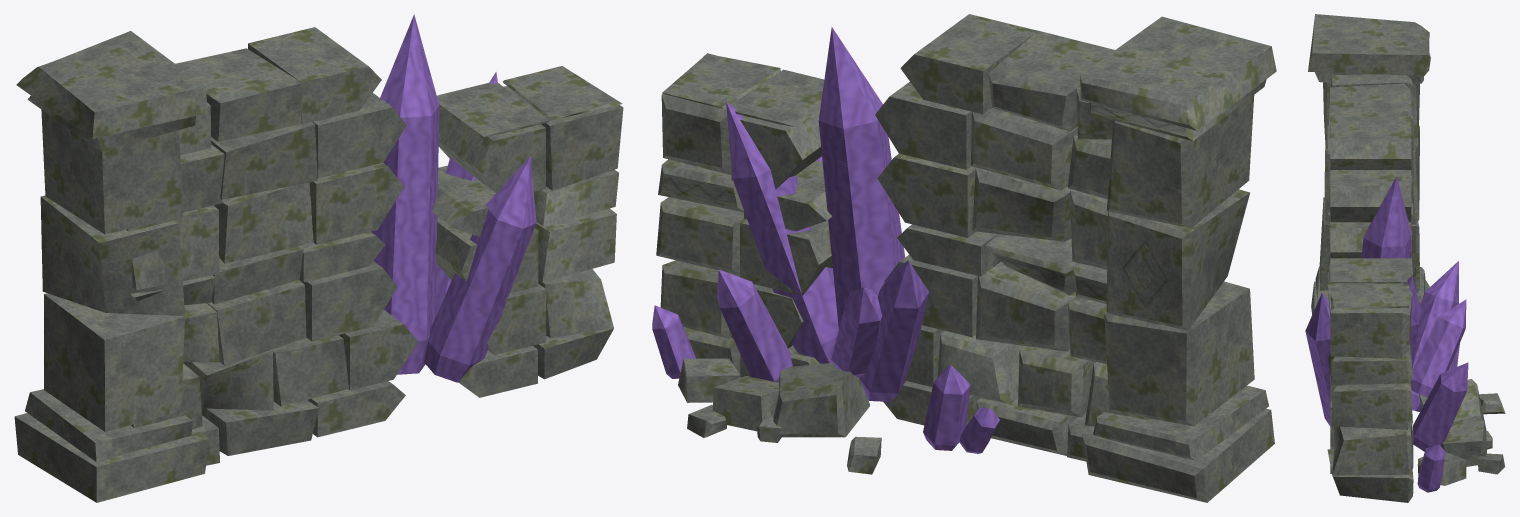
The model's file is D_Crystal_Fractured_Wall.obj.
The picture shows the model from 3 angles, left to right: view 1: azimuth 30°, elevation 25°; view 2: azimuth 150°, elevation 25°; view 3: azimuth 270°, elevation 25°; orthographic projection. The views are drawn at different scales.
Parts seen in each view (by area): view 1: D_Crystal_Fractured_Wall_Stone_Slate, D_Crystal_Fractured_Wall_Stone_Shadow, D_Crystal_Fractured_Wall_Stone_Warm, D_Crystal_Fractured_Wall_Crystal_Amethyst, D_Crystal_Fractured_Wall_Stone_Pale, D_Crystal_Fractured_Wall_Crystal_Deep, D_Crystal_Fractured_Wall_Crystal_Light; view 2: D_Crystal_Fractured_Wall_Stone_Slate, D_Crystal_Fractured_Wall_Stone_Warm, D_Crystal_Fractured_Wall_Stone_Shadow, D_Crystal_Fractured_Wall_Crystal_Amethyst, D_Crystal_Fractured_Wall_Crystal_Deep, D_Crystal_Fractured_Wall_Stone_Pale, D_Crystal_Fractured_Wall_Crystal_Light, D_Crystal_Fractured_Wall_Carved_Diamond, D_Crystal_Fractured_Wall_Carved_Band; view 3: D_Crystal_Fractured_Wall_Stone_Slate, D_Crystal_Fractured_Wall_Stone_Warm, D_Crystal_Fractured_Wall_Stone_Shadow, D_Crystal_Fractured_Wall_Crystal_Light, D_Crystal_Fractured_Wall_Crystal_Amethyst, D_Crystal_Fractured_Wall_Stone_Pale, D_Crystal_Fractured_Wall_Crystal_Deep, D_Crystal_Fractured_Wall_Carved_Diamond.
Part boxes in pixels (left/top/right/bottom): D_Crystal_Fractured_Wall_Stone_Slate: left=25, top=27, right=616, bottom=461; D_Crystal_Fractured_Wall_Stone_Shadow: left=27, top=83, right=549, bottom=431; D_Crystal_Fractured_Wall_Stone_Warm: left=16, top=31, right=623, bottom=341; D_Crystal_Fractured_Wall_Crystal_Amethyst: left=391, top=14, right=536, bottom=382; D_Crystal_Fractured_Wall_Stone_Pale: left=14, top=66, right=622, bottom=502; D_Crystal_Fractured_Wall_Crystal_Deep: left=371, top=72, right=522, bottom=382; D_Crystal_Fractured_Wall_Crystal_Light: left=380, top=15, right=530, bottom=372; D_Crystal_Fractured_Wall_Stone_Slate: left=656, top=14, right=1268, bottom=474; D_Crystal_Fractured_Wall_Stone_Warm: left=658, top=16, right=1276, bottom=431; D_Crystal_Fractured_Wall_Stone_Shadow: left=731, top=69, right=1266, bottom=426; D_Crystal_Fractured_Wall_Crystal_Amethyst: left=652, top=27, right=994, bottom=453; D_Crystal_Fractured_Wall_Crystal_Deep: left=652, top=27, right=981, bottom=451; D_Crystal_Fractured_Wall_Stone_Pale: left=662, top=53, right=1274, bottom=502; D_Crystal_Fractured_Wall_Crystal_Light: left=652, top=27, right=999, bottom=450; D_Crystal_Fractured_Wall_Carved_Diamond: left=1108, top=216, right=1182, bottom=325; D_Crystal_Fractured_Wall_Carved_Band: left=661, top=103, right=1187, bottom=301; D_Crystal_Fractured_Wall_Stone_Slate: left=1315, top=74, right=1505, bottom=502; D_Crystal_Fractured_Wall_Stone_Warm: left=1308, top=14, right=1486, bottom=466; D_Crystal_Fractured_Wall_Stone_Shadow: left=1315, top=72, right=1423, bottom=447; D_Crystal_Fractured_Wall_Crystal_Light: left=1315, top=176, right=1467, bottom=457; D_Crystal_Fractured_Wall_Crystal_Amethyst: left=1305, top=180, right=1468, bottom=492; D_Crystal_Fractured_Wall_Stone_Pale: left=1311, top=203, right=1429, bottom=314; D_Crystal_Fractured_Wall_Crystal_Deep: left=1397, top=177, right=1459, bottom=492; D_Crystal_Fractured_Wall_Carved_Diamond: left=1415, top=128, right=1419, bottom=216.
Size of the model in its own units: 3.65 by 2.52 by 1.54.
Materials: 9 (9 with a texture image).
